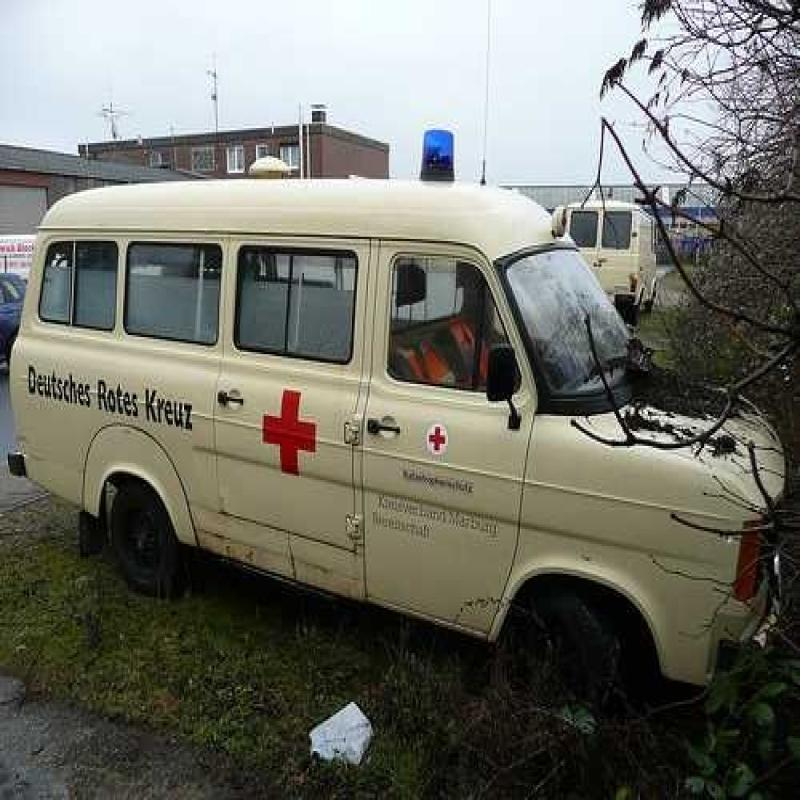AmbulanceSiren: (416, 125, 461, 201)
